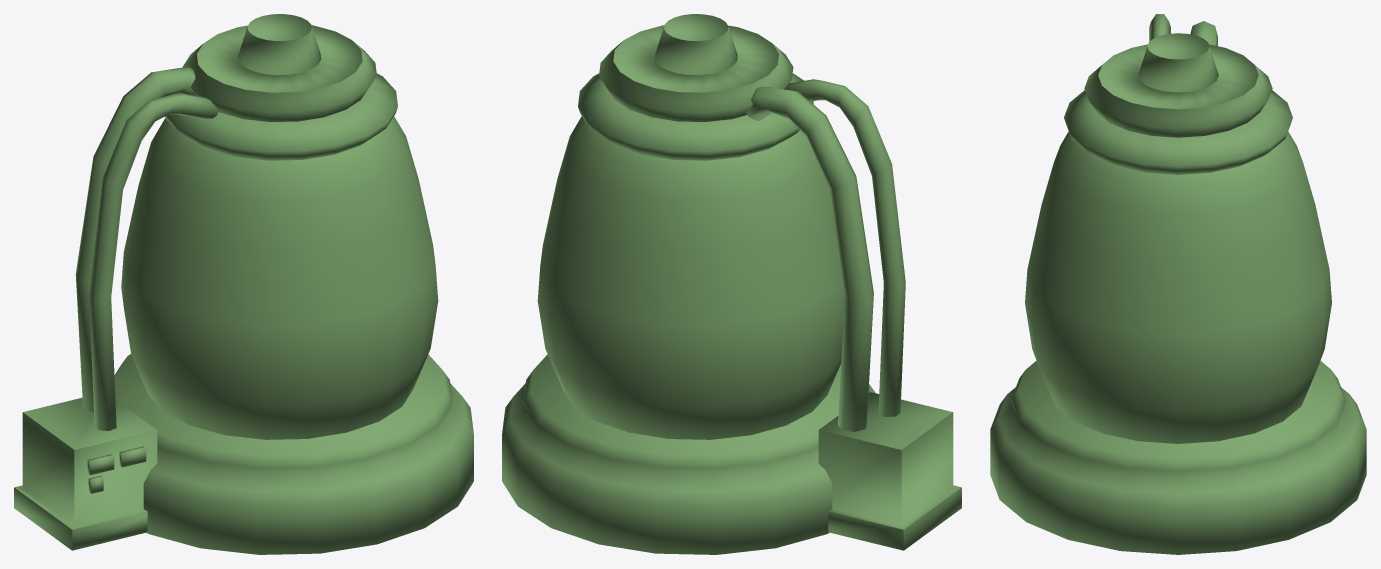
The model's file is SM_eggcubator.fbx.
The picture shows the model from 3 angles, left to right: view 1: azimuth 30°, elevation 25°; view 2: azimuth 150°, elevation 25°; view 3: azimuth 270°, elevation 25°; orthographic projection. The views are drawn at different scales.
Visible parts, largest first — view 1: incubator; view 2: incubator; view 3: incubator.
Part boxes in pixels (box(x1,y1,x2,y2)): incubator: box(14, 14, 473, 554); incubator: box(502, 14, 961, 554); incubator: box(990, 14, 1366, 554).
Bounding box in the file's own units: 136 × 143 × 113.
